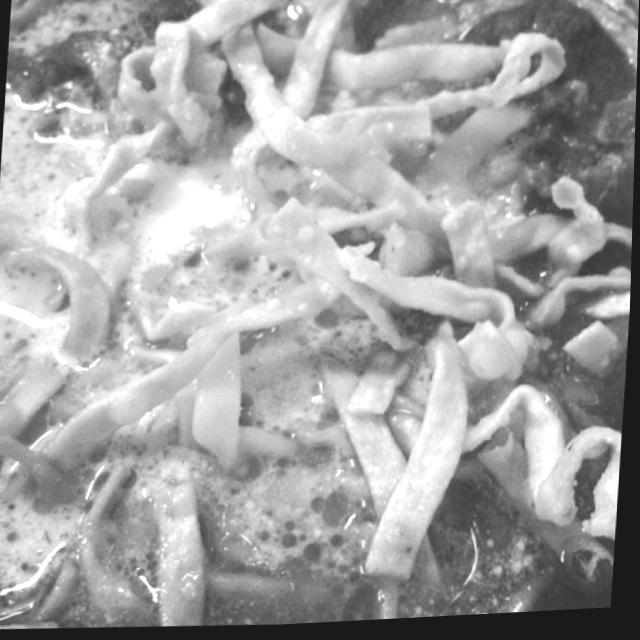面条主食: (0, 0, 640, 637)
